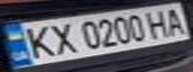0: (75, 17, 100, 51), (127, 11, 151, 43), (112, 14, 133, 45)
2: (97, 16, 118, 48)
A: (160, 4, 190, 36)
H: (142, 7, 175, 38)
K: (18, 22, 60, 60)
X: (42, 20, 78, 56)
